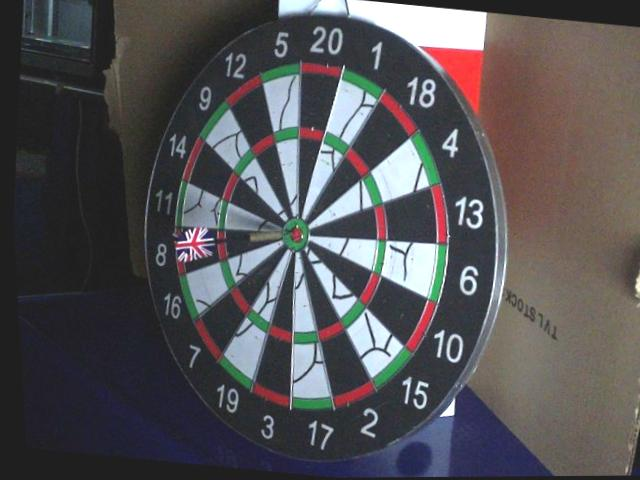bullseye: (283, 218, 308, 251)
